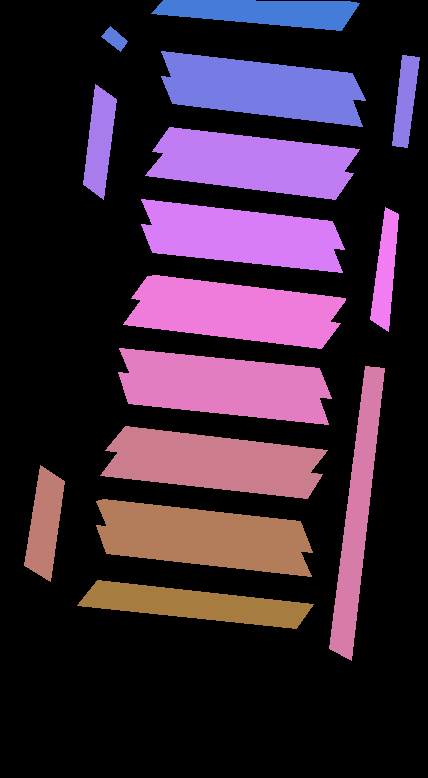parkingspot: (329, 366, 384, 660), (96, 499, 312, 552), (77, 580, 313, 628), (96, 525, 311, 576), (118, 372, 328, 424), (100, 450, 322, 498), (123, 299, 340, 348), (119, 348, 331, 398), (105, 426, 327, 473), (141, 199, 344, 249), (131, 275, 345, 322), (161, 76, 362, 126), (161, 51, 365, 100), (145, 151, 353, 199), (141, 224, 342, 272), (152, 127, 359, 172), (151, 0, 359, 30), (24, 465, 64, 581), (83, 84, 116, 199), (370, 207, 398, 331), (392, 55, 419, 147), (101, 26, 127, 51)
